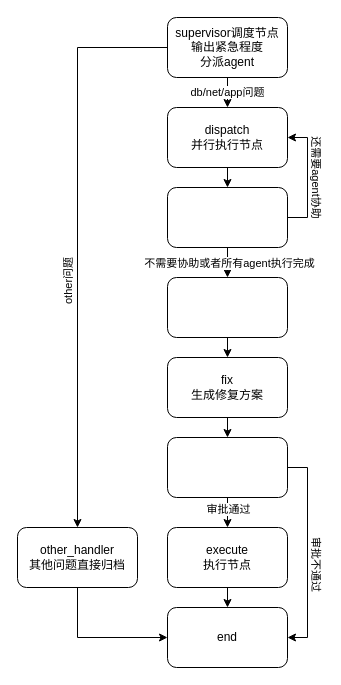
Some shapes in this 341 by 685 pixel diagram are drawn without their labels. Here are the shapes that lost their labels. From the top down, the centre of each, then its label:
At pixel 227 217: "dynamic_check 动态检查是否执行完成".
At pixel 227 307: "aggregrate 聚合诊断结果".
At pixel 227 467: "human 人工审批节点".
